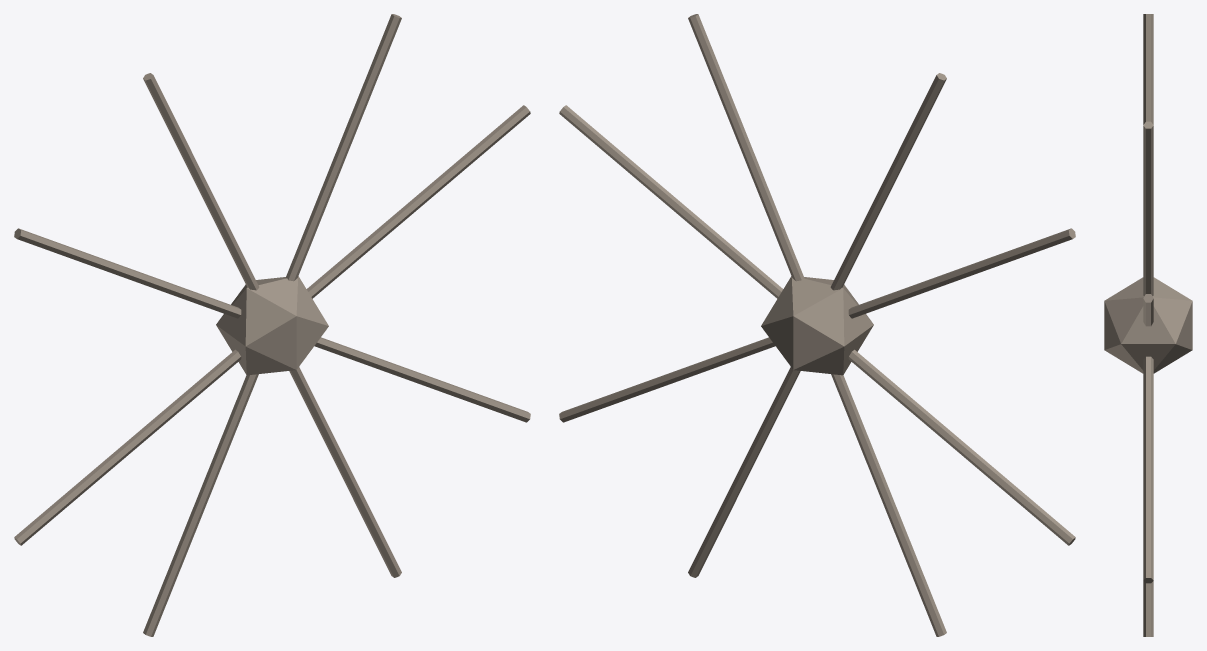
The model's file is daddy_longlegs.glb.
The picture shows the model from 3 angles, left to right: view 1: azimuth 30°, elevation 25°; view 2: azimuth 150°, elevation 25°; view 3: azimuth 270°, elevation 25°; orthographic projection. The views are drawn at different scales.
Parts seen in each view (by area): view 1: world; view 2: world; view 3: world.
Part boxes in pixels (x1,y1,x2,y2): world: (14,14,530,636); world: (559,14,1075,636); world: (1104,14,1192,636).
Bounding box in the file's own units: 1.05 × 1.09 × 0.1701.
